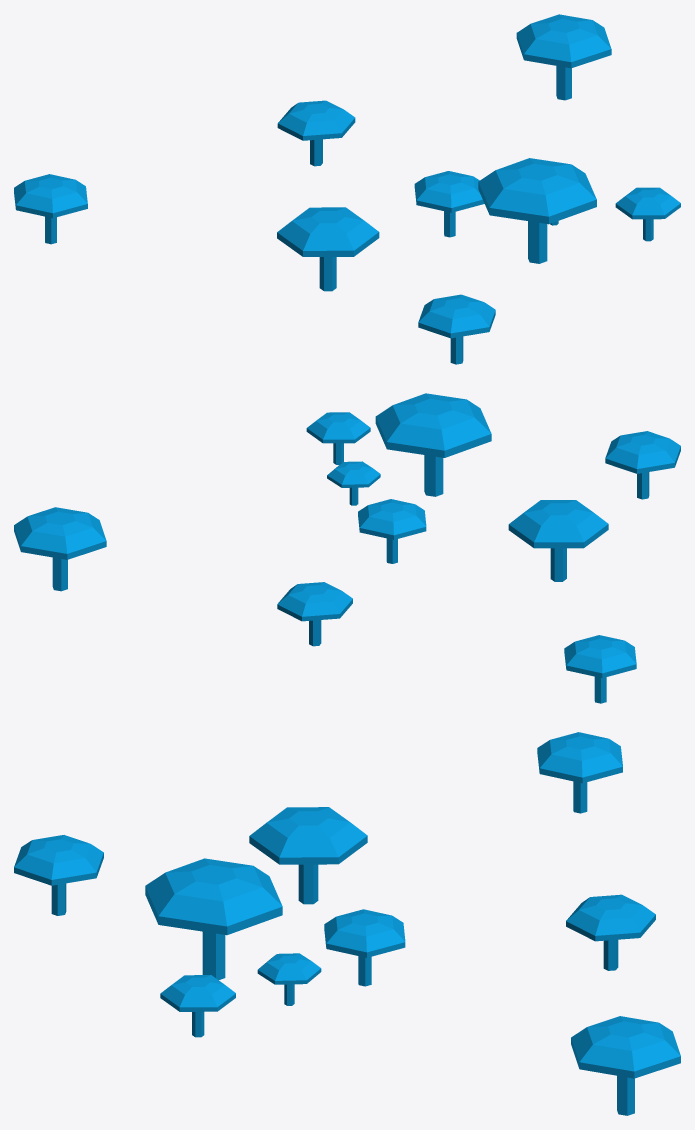
File: Garden_GlowShroom01.fbx
3 views of the same model, one above another, from view 1: azimuth 30°, elevation 25°; view 2: azimuth 150°, elevation 25°; view 3: azimuth 270°, elevation 25° (orthographic). The views are drawn at different scales.
Visible parts, largest first — view 1: Cylinder.179; view 2: Cylinder.179; view 3: Cylinder.179.
Boxes of the visible parts, <box> form: Cylinder.179: <box>14,14,680,364</box>; Cylinder.179: <box>14,393,680,703</box>; Cylinder.179: <box>14,732,680,1115</box>.
Bounding box in the file's own units: 71.1 × 11.61 × 57.81.
